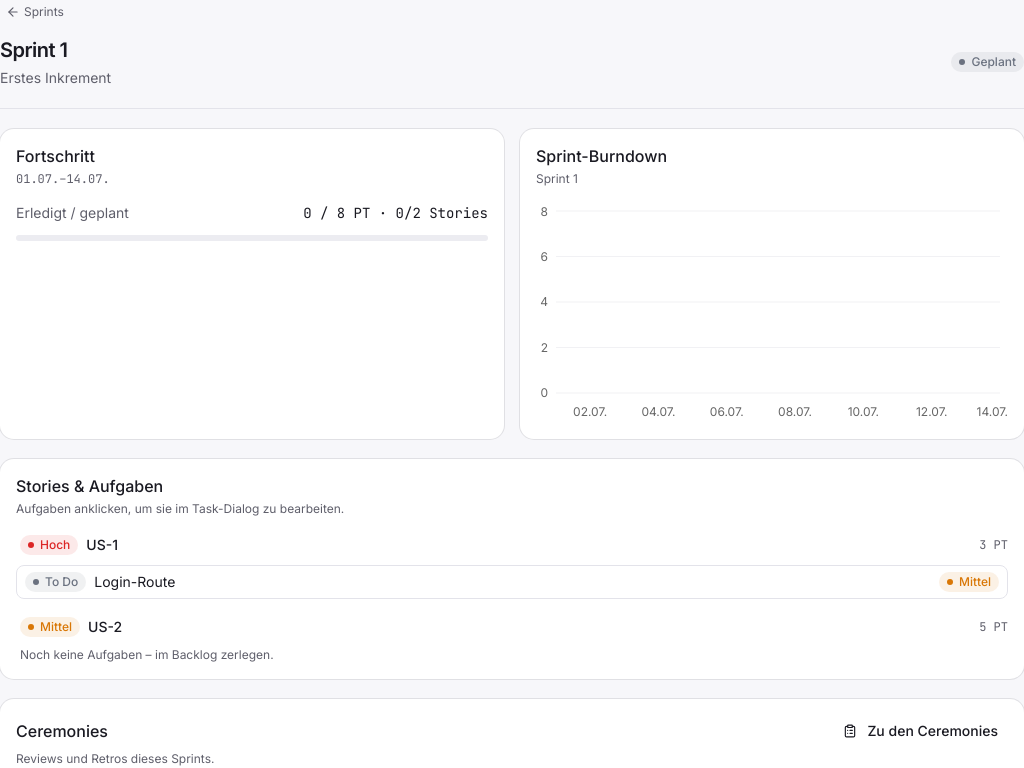
SprintDetail (TASK-053) › lists assigned stories and their tasks, and opens the TaskDialog on click
Expected: the list item with test id "sprint-detail-story-US-1" is shown, 16,533 -> 1008,599
Click the button with test id "sprint-detail-task-t1": (56, 582) 16,565 -> 1008,599
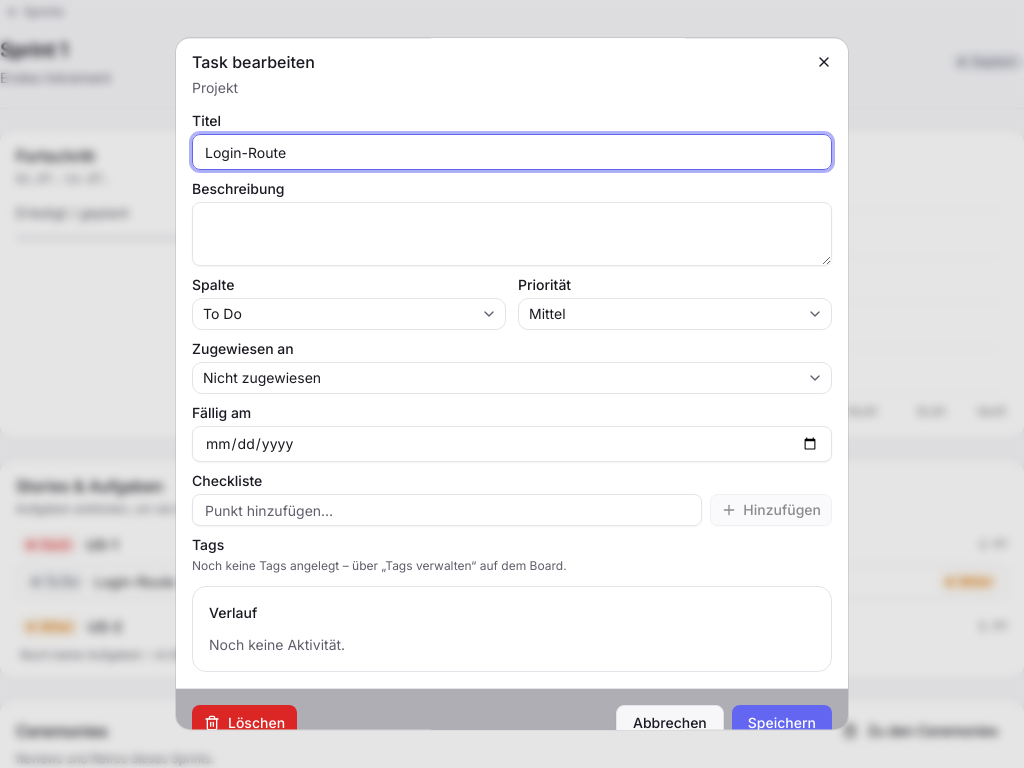
Expected: the heading "Task bearbeiten" is shown, 192,52 -> 315,72
